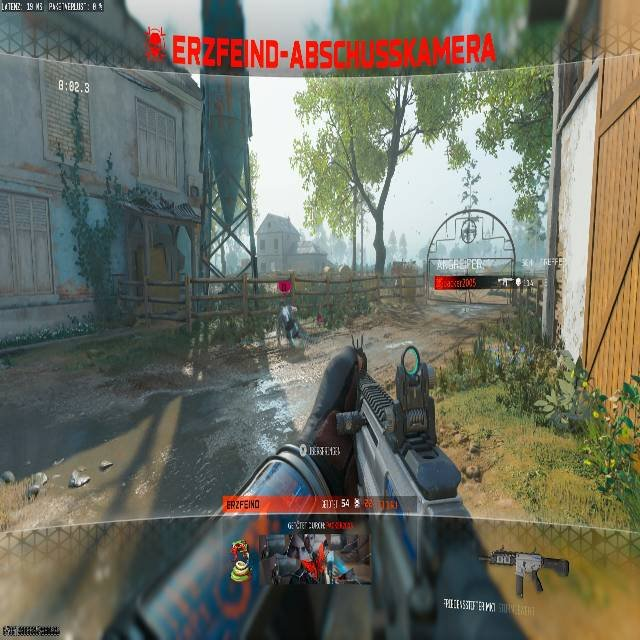player: (280, 302, 300, 349)
